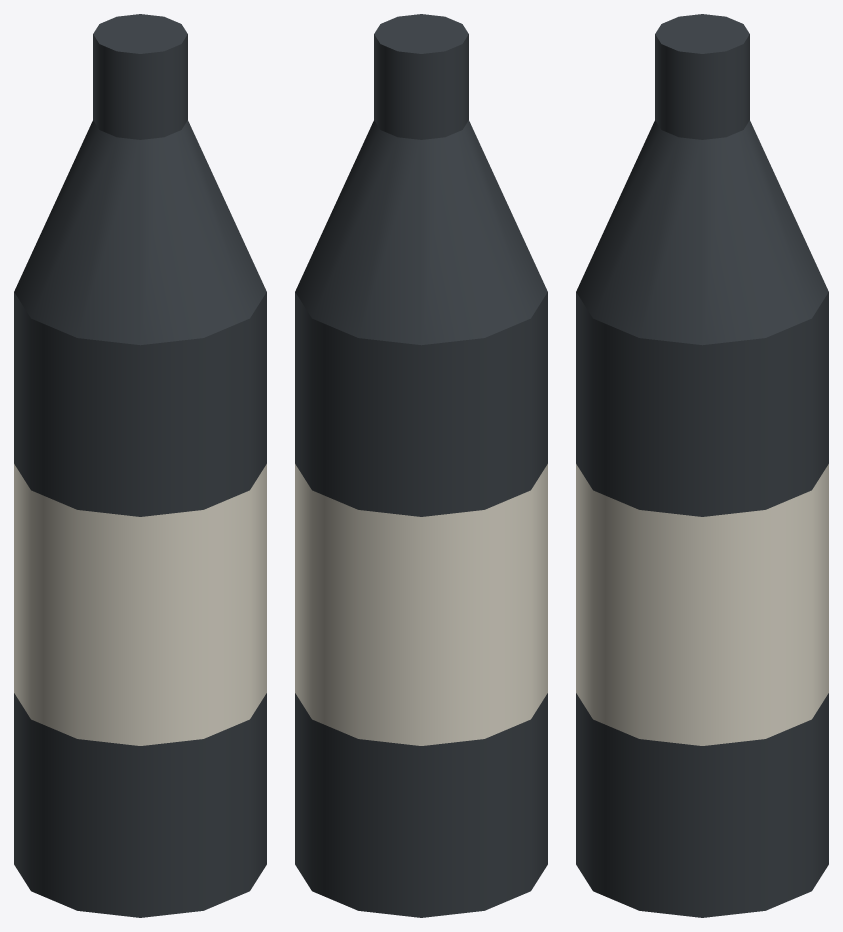
The model's file is gin.glb.
3 renders of one model, left to right at view 1: azimuth 30°, elevation 25°; view 2: azimuth 150°, elevation 25°; view 3: azimuth 270°, elevation 25°, orthographic.
Visible parts, largest first — view 1: gin; view 2: gin; view 3: gin.
Part boxes in pixels (x1,y1,x2,y2): gin: [14, 14, 266, 917]; gin: [295, 14, 547, 917]; gin: [576, 14, 828, 917].
Size of the model in its own units: 0.08 by 0.29 by 0.08.
